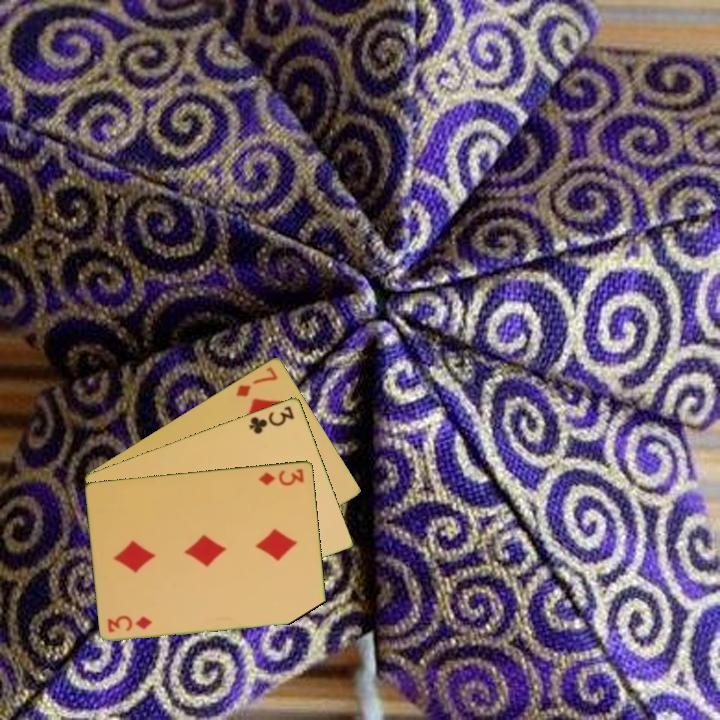3c: (245, 402, 297, 437)
3d: (255, 465, 307, 488), (104, 612, 156, 635)
7d: (232, 363, 281, 400)
